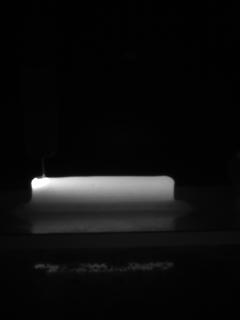tip_wire_left: (30, 153, 45, 178)
tip_wire_right: (43, 152, 57, 178)
